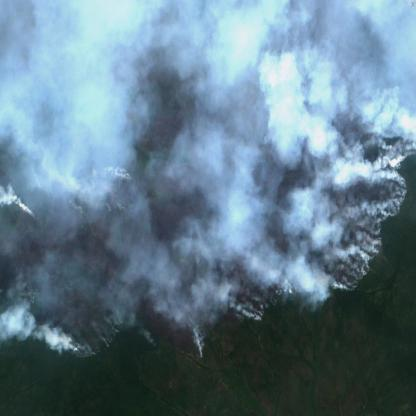fire: (327, 144, 416, 298), (229, 274, 319, 329), (53, 309, 130, 360), (190, 327, 211, 361), (14, 200, 44, 223), (137, 326, 162, 346)
